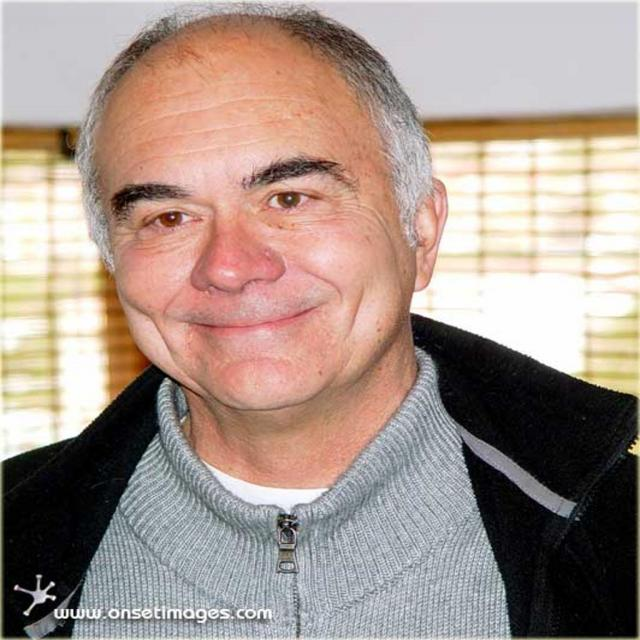nomask: (93, 53, 416, 404)
